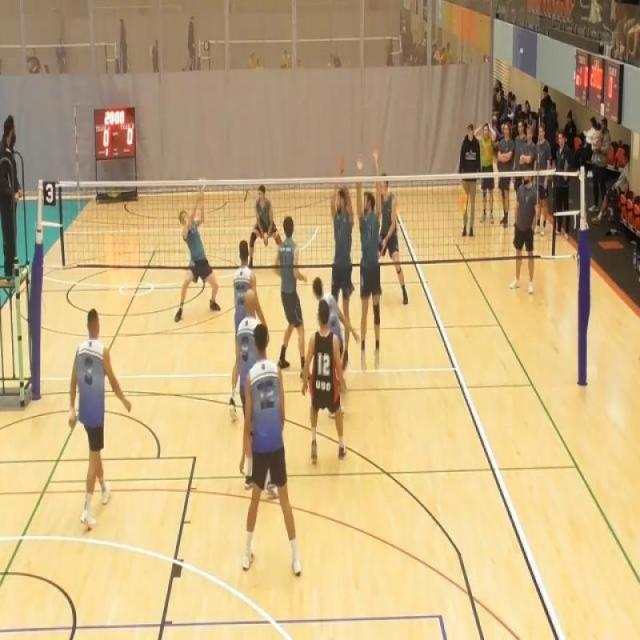volleyball: (196, 176, 208, 193)
